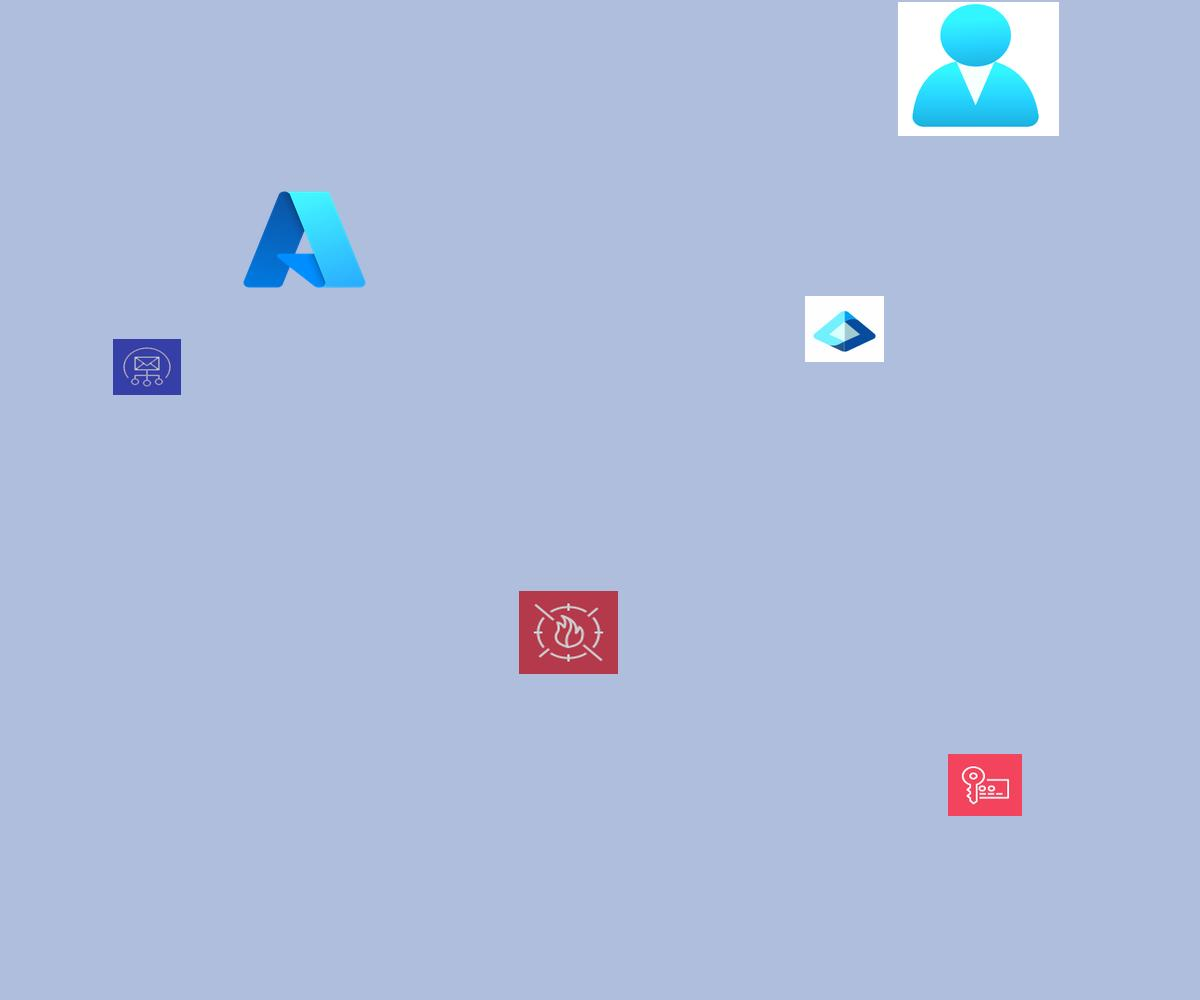AWS-Key-Management-Service: (948, 754, 1022, 816)
AWS-Simple-Email-Service: (113, 339, 181, 395)
AWS-WAF: (519, 591, 618, 674)
Azure_microsoft_entra: (805, 296, 884, 362)
Azure_services: (238, 184, 371, 295)
Azure_users: (898, 2, 1059, 136)
